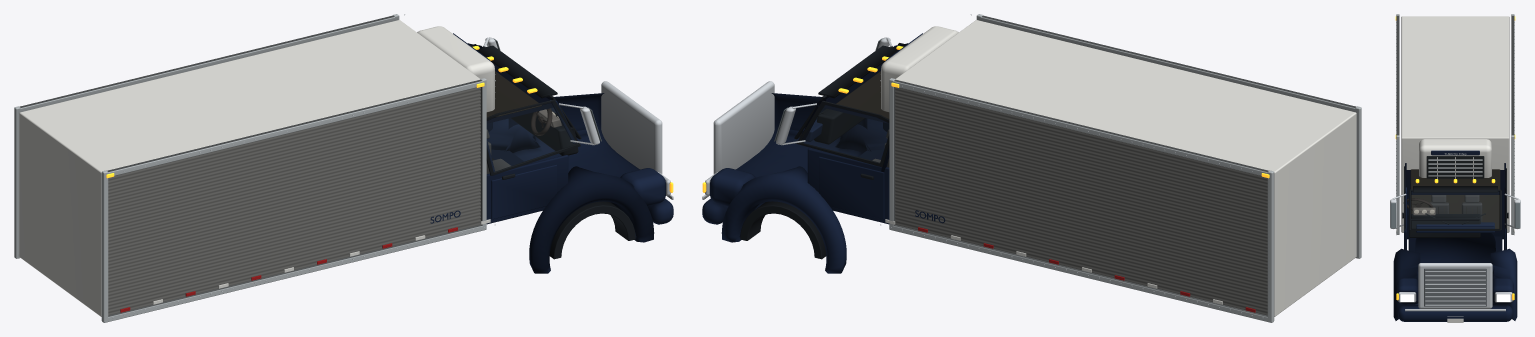
Rendered from astra-sompo-truck.glb.
3 renders of one model, left to right at view 1: azimuth 30°, elevation 25°; view 2: azimuth 150°, elevation 25°; view 3: azimuth 270°, elevation 25°, orthographic. The views are drawn at different scales.
Visible parts, largest first — view 1: astra-cargo-Painéis do baú, astra-cargo-Astra box shell, astra-cab-Pintura da cabine, astra-cargo-Alumínio do baú, astra-cab-Astra rubber seals, astra-cab-Astra polished chrome, astra-cab-Astra headliner fabric; view 2: astra-cargo-Painéis do baú, astra-cargo-Astra box shell, astra-cab-Pintura da cabine, astra-cargo-Alumínio do baú, astra-cab-Astra rubber seals, astra-cab-Astra polished chrome, astra-cab-Astra headliner fabric; view 3: astra-cargo-Astra box shell, astra-cab-Pintura da cabine, astra-cab-Astra polished chrome, astra-cab-Astra rubber seals, astra-cab-Astra grille face, astra-cargo-Alumínio do baú, astra-cab-Astra headliner fabric, astra-cargo-Astra grille recess, astra-cab-Astra cabin seats, astra-cargo-SOMPO painted metal, astra-cab-Astra mirror glass, astra-cab-Astra headlight (+3 smaller).
Boxes of the visible parts, x1=… form: astra-cargo-Painéis do baú: x1=108, y1=87, x2=480, y2=315; astra-cargo-Astra box shell: x1=19, y1=20, x2=494, y2=316; astra-cab-Pintura da cabine: x1=468, y1=43, x2=673, y2=273; astra-cargo-Alumínio do baú: x1=14, y1=14, x2=495, y2=322; astra-cab-Astra rubber seals: x1=473, y1=44, x2=635, y2=259; astra-cab-Astra polished chrome: x1=483, y1=37, x2=673, y2=199; astra-cab-Astra headliner fabric: x1=486, y1=71, x2=541, y2=117; astra-cargo-Painéis do baú: x1=895, y1=87, x2=1267, y2=315; astra-cargo-Astra box shell: x1=881, y1=20, x2=1356, y2=316; astra-cab-Pintura da cabine: x1=702, y1=43, x2=907, y2=273; astra-cargo-Alumínio do baú: x1=880, y1=14, x2=1361, y2=322; astra-cab-Astra rubber seals: x1=740, y1=43, x2=903, y2=259; astra-cab-Astra polished chrome: x1=702, y1=37, x2=892, y2=199; astra-cab-Astra headliner fabric: x1=836, y1=71, x2=889, y2=118; astra-cargo-Astra box shell: x1=1396, y1=16, x2=1514, y2=232; astra-cab-Pintura da cabine: x1=1393, y1=163, x2=1517, y2=321; astra-cab-Astra polished chrome: x1=1390, y1=193, x2=1520, y2=311; astra-cab-Astra rubber seals: x1=1402, y1=166, x2=1508, y2=237; astra-cab-Astra grille face: x1=1424, y1=268, x2=1486, y2=306; astra-cargo-Alumínio do baú: x1=1396, y1=14, x2=1514, y2=234; astra-cab-Astra headliner fabric: x1=1410, y1=169, x2=1500, y2=228; astra-cargo-Astra grille recess: x1=1426, y1=156, x2=1484, y2=178; astra-cab-Astra cabin seats: x1=1428, y1=195, x2=1482, y2=222; astra-cargo-SOMPO painted metal: x1=1431, y1=150, x2=1479, y2=155; astra-cab-Astra mirror glass: x1=1391, y1=203, x2=1519, y2=228; astra-cab-Astra headlight: x1=1400, y1=294, x2=1510, y2=301.
Bounding box in the file's own units: 9.03 × 3.08 × 2.69.
